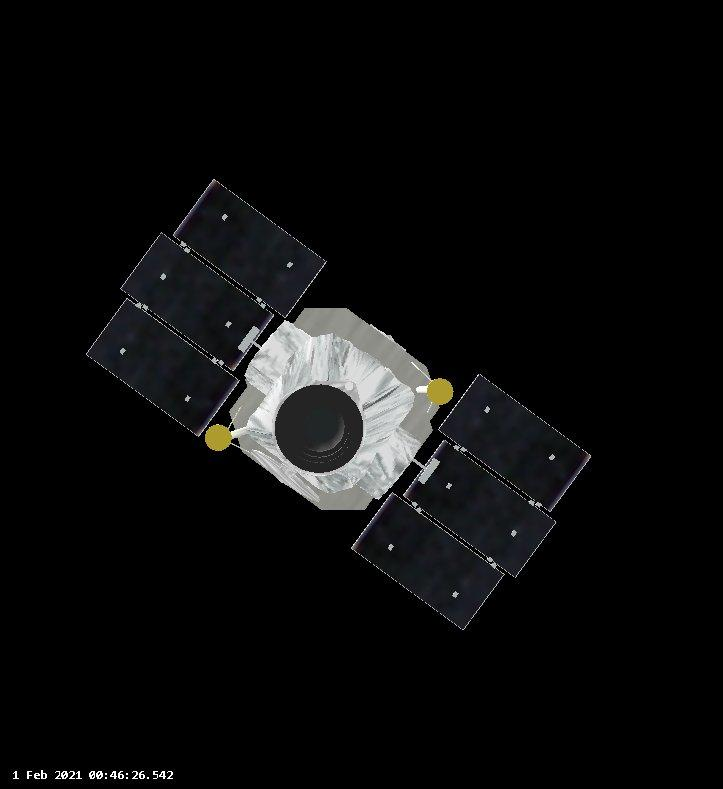antenna: (202, 421, 233, 452), (425, 376, 457, 406)
body: (228, 305, 436, 512)
solar: (168, 178, 328, 321), (434, 372, 595, 513), (83, 297, 241, 438), (122, 230, 277, 373), (400, 440, 559, 577), (350, 492, 505, 632)
